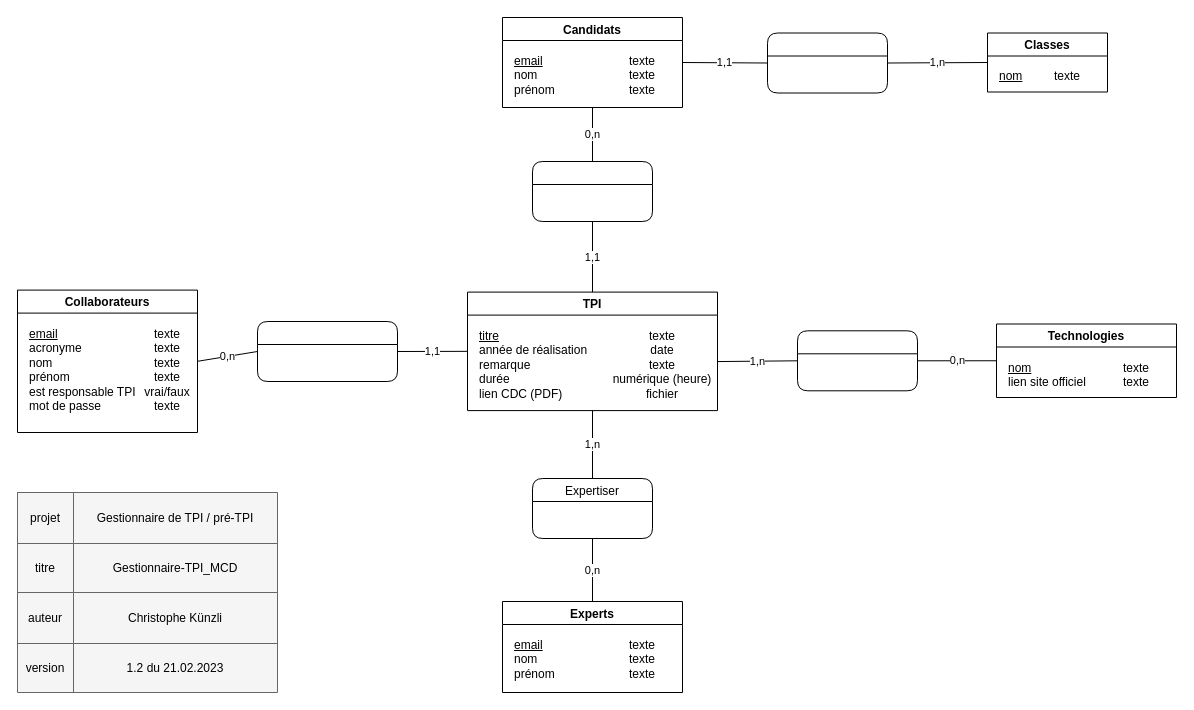
The diagram is 1194 pixels wide and 710 high, and some of its shapes have lost their labels. The shapes that lost their labels are listed below. From the top down, each one's centre as x and y in pixels, then its label:
point (827, 62): Appartenir
point (592, 191): Réaliser
point (327, 351): Diriger
point (857, 360): Utiliser
